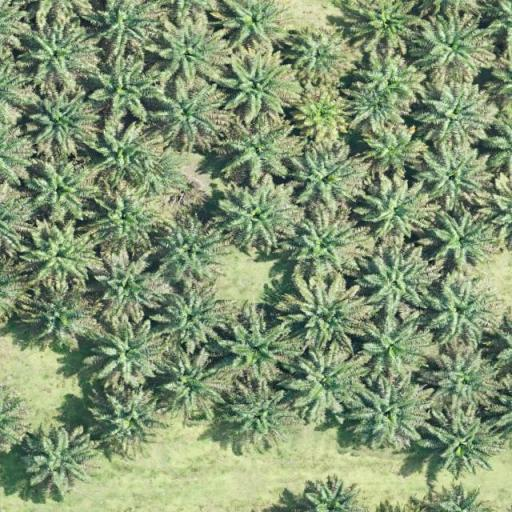Ganoderma: (304, 100, 338, 131)
